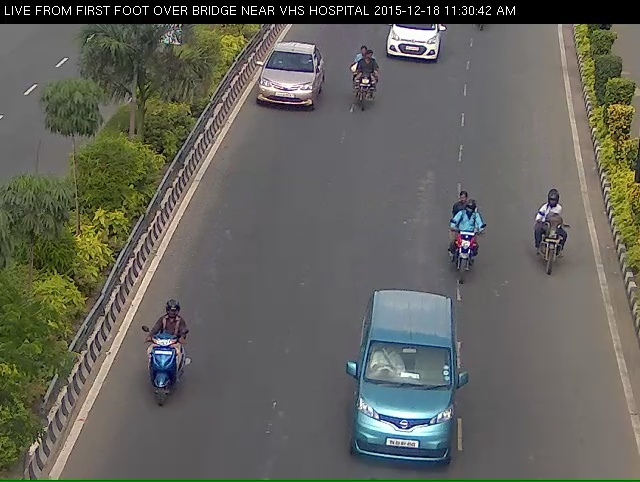Car: (348, 305, 469, 480), (249, 42, 321, 124)
Person: (132, 321, 177, 442), (444, 205, 497, 300), (540, 197, 571, 298), (343, 51, 384, 120)
